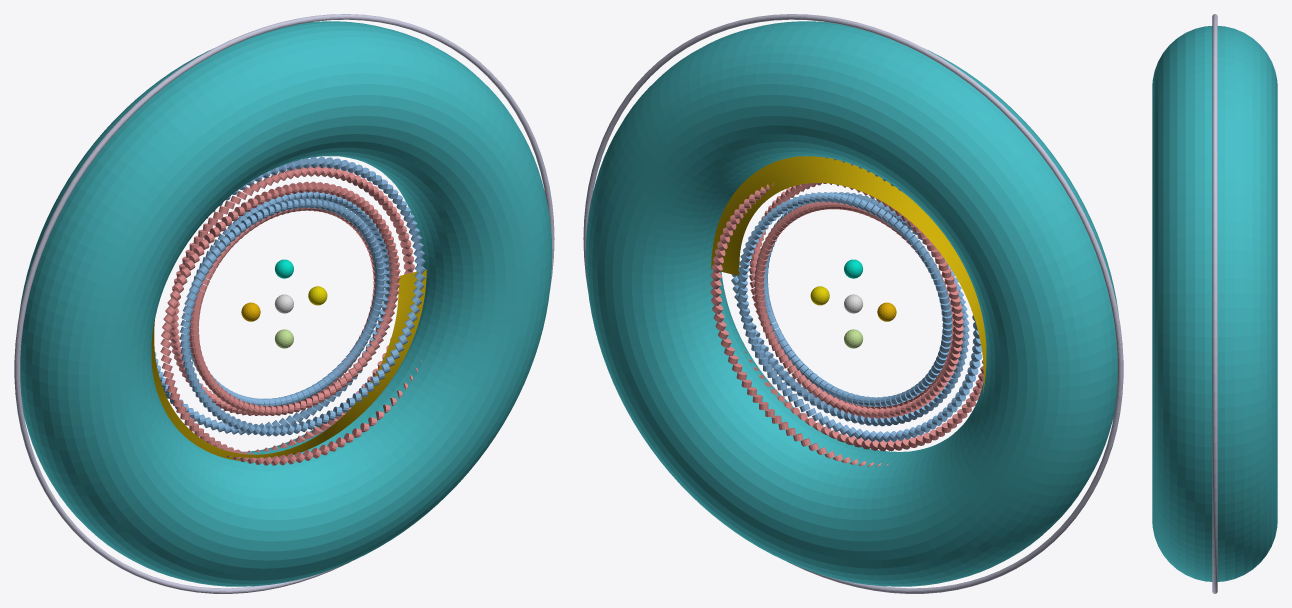
File: RA_TH_StandingWave.glb
3 renders of one model, left to right at view 1: azimuth 30°, elevation 25°; view 2: azimuth 150°, elevation 25°; view 3: azimuth 270°, elevation 25°, orthographic. The views are drawn at different scales.
Visible parts, largest first — view 1: Phi_Torus, HelixB_RA, HelixA_TH, Titan_Orbit, Mobius_Crown; view 2: Phi_Torus, HelixA_TH, HelixB_RA, Titan_Orbit, Mobius_Crown; view 3: Phi_Torus, Titan_Orbit.
Part boxes in pixels (bbox=[...]): Phi_Torus: bbox=[19, 21, 552, 586]; HelixB_RA: bbox=[160, 166, 422, 465]; HelixA_TH: bbox=[154, 157, 425, 436]; Titan_Orbit: bbox=[14, 14, 554, 593]; Mobius_Crown: bbox=[151, 269, 426, 461]; Phi_Torus: bbox=[585, 21, 1118, 586]; HelixA_TH: bbox=[731, 156, 981, 442]; HelixB_RA: bbox=[710, 183, 983, 466]; Titan_Orbit: bbox=[583, 14, 1123, 593]; Mobius_Crown: bbox=[711, 156, 986, 394]; Phi_Torus: bbox=[1152, 26, 1277, 581]; Titan_Orbit: bbox=[1212, 14, 1217, 593].
Size of the model in its own units: 3.23 by 3.23 by 0.6994.
